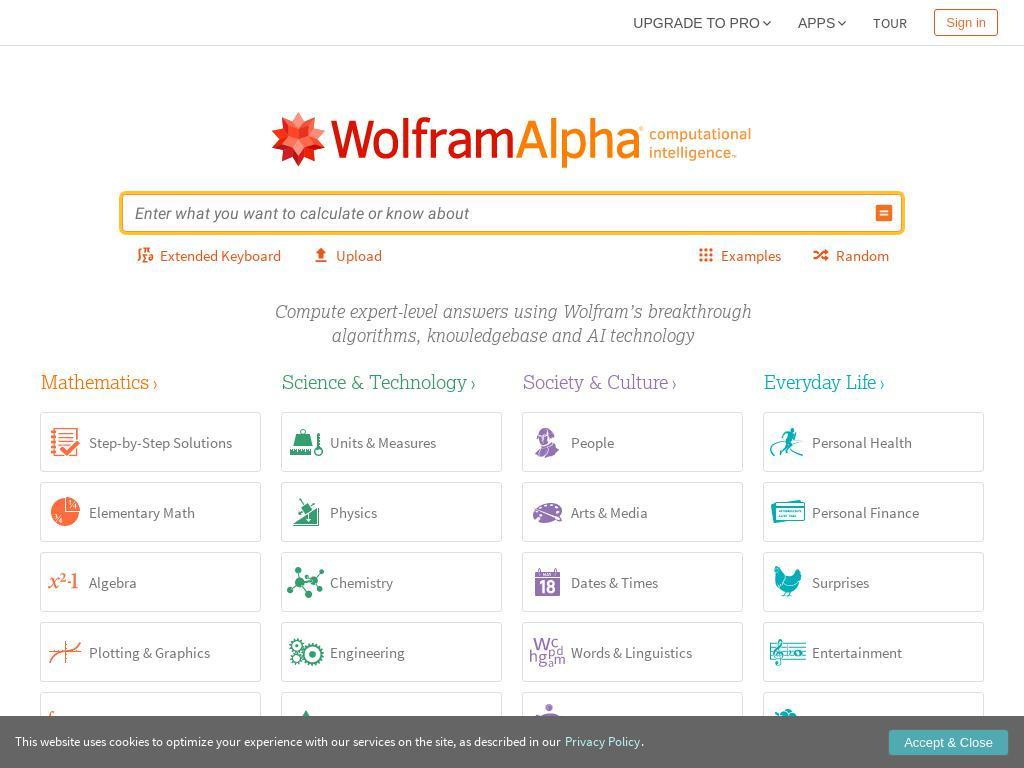button: (264, 66, 760, 194), (40, 412, 261, 472), (40, 482, 261, 542), (40, 552, 261, 612), (40, 622, 261, 682), (40, 692, 261, 752), (281, 412, 502, 472), (281, 482, 502, 542), (281, 552, 502, 612), (281, 622, 502, 682), (281, 692, 502, 752), (522, 412, 743, 472), (522, 482, 743, 542), (522, 552, 743, 612), (522, 622, 743, 682), (522, 692, 743, 752), (763, 412, 984, 472), (763, 482, 984, 542), (763, 552, 984, 612), (763, 622, 984, 682), (763, 692, 984, 752), (624, 5, 783, 40), (122, 241, 294, 269), (40, 371, 261, 392), (281, 371, 502, 392), (522, 371, 743, 392), (763, 371, 984, 392), (888, 728, 1010, 756), (683, 241, 794, 269), (798, 241, 902, 269), (298, 241, 395, 269), (788, 5, 859, 40), (864, 5, 917, 40), (934, 9, 998, 36), (564, 732, 641, 751), (40, 762, 261, 768), (281, 762, 502, 768), (522, 762, 743, 768), (763, 762, 984, 768), (874, 203, 894, 223)
field: (130, 194, 868, 232)
heading: (282, 370, 467, 393), (523, 370, 668, 393), (764, 370, 876, 393), (41, 370, 149, 393)
image: (269, 112, 755, 168), (41, 418, 89, 466), (41, 488, 89, 536), (41, 558, 89, 606), (41, 628, 89, 676), (41, 698, 89, 746), (282, 418, 330, 466), (282, 488, 330, 536), (282, 558, 330, 606), (282, 628, 330, 676), (282, 698, 330, 746), (523, 418, 571, 466), (523, 488, 571, 536), (523, 558, 571, 606), (523, 628, 571, 676), (523, 698, 571, 746), (764, 418, 812, 466), (764, 488, 812, 536), (764, 558, 812, 606), (764, 628, 812, 676), (764, 698, 812, 746), (874, 203, 894, 223), (135, 245, 155, 265), (311, 245, 331, 265), (696, 245, 716, 265), (811, 245, 831, 265), (759, 15, 774, 30), (835, 15, 850, 30)
text: (273, 300, 751, 322), (15, 733, 564, 750), (330, 324, 694, 346), (330, 712, 482, 732), (89, 432, 232, 452), (160, 245, 281, 265), (89, 642, 210, 662), (571, 642, 692, 662), (89, 712, 209, 732), (812, 712, 930, 732), (633, 14, 761, 31), (812, 502, 919, 522), (89, 502, 195, 522), (330, 432, 436, 452), (571, 712, 676, 732), (812, 432, 912, 452), (812, 642, 902, 662), (571, 572, 658, 592), (571, 502, 648, 522), (330, 642, 405, 662), (565, 733, 640, 750), (330, 572, 393, 592), (721, 245, 781, 265), (812, 572, 869, 592), (836, 245, 889, 265), (89, 572, 137, 592), (330, 502, 377, 522), (336, 245, 382, 265), (571, 432, 614, 452), (947, 734, 994, 750), (904, 734, 948, 750), (873, 13, 908, 32), (797, 14, 835, 31), (946, 15, 987, 30), (641, 733, 644, 750)
